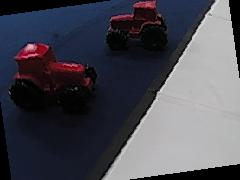Tracktor: (7, 40, 97, 110), (104, 1, 170, 51)
